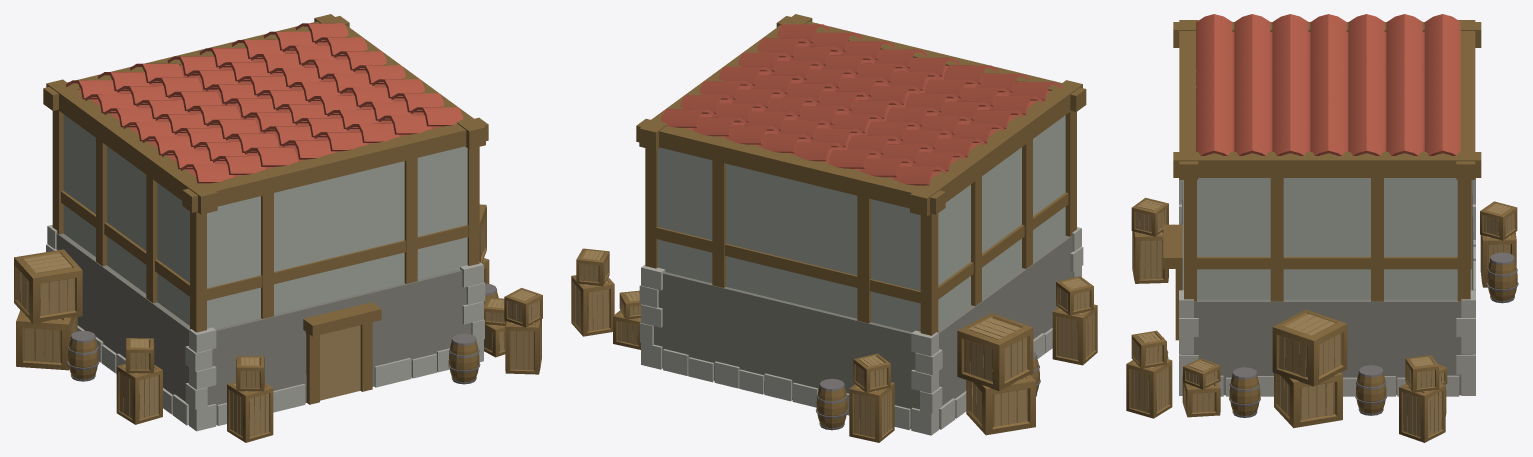
Rendered from storage-house.glb.
3 renders of one model, left to right at view 1: azimuth 30°, elevation 25°; view 2: azimuth 150°, elevation 25°; view 3: azimuth 270°, elevation 25°, orthographic.
Visible parts, largest first — view 1: Storage_SecondAge_Level2; view 2: Storage_SecondAge_Level2; view 3: Storage_SecondAge_Level2.
Boxes of the visible parts, box(x1,y1,x2,y2) form: Storage_SecondAge_Level2: box(14, 14, 542, 442); Storage_SecondAge_Level2: box(571, 14, 1097, 442); Storage_SecondAge_Level2: box(1126, 14, 1518, 442).
Bounding box in the file's own units: 1.65 × 0.891 × 1.25.
1 material, 1 textured.
